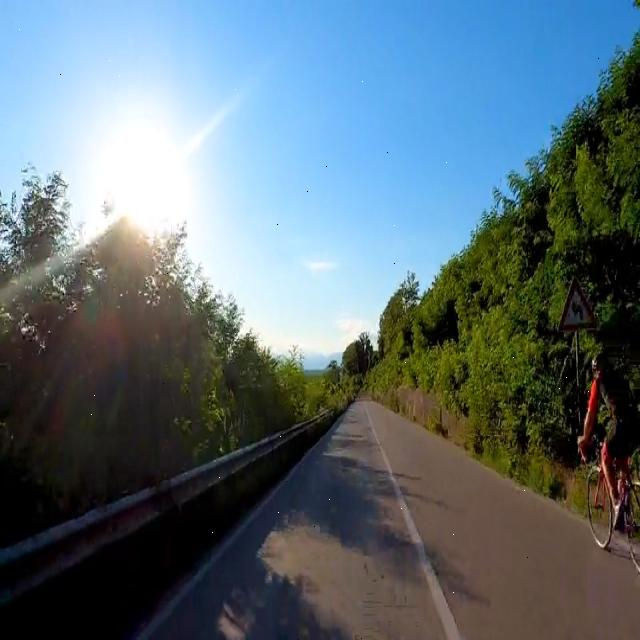lane: (365, 407, 461, 639)
road: (143, 399, 639, 638)
